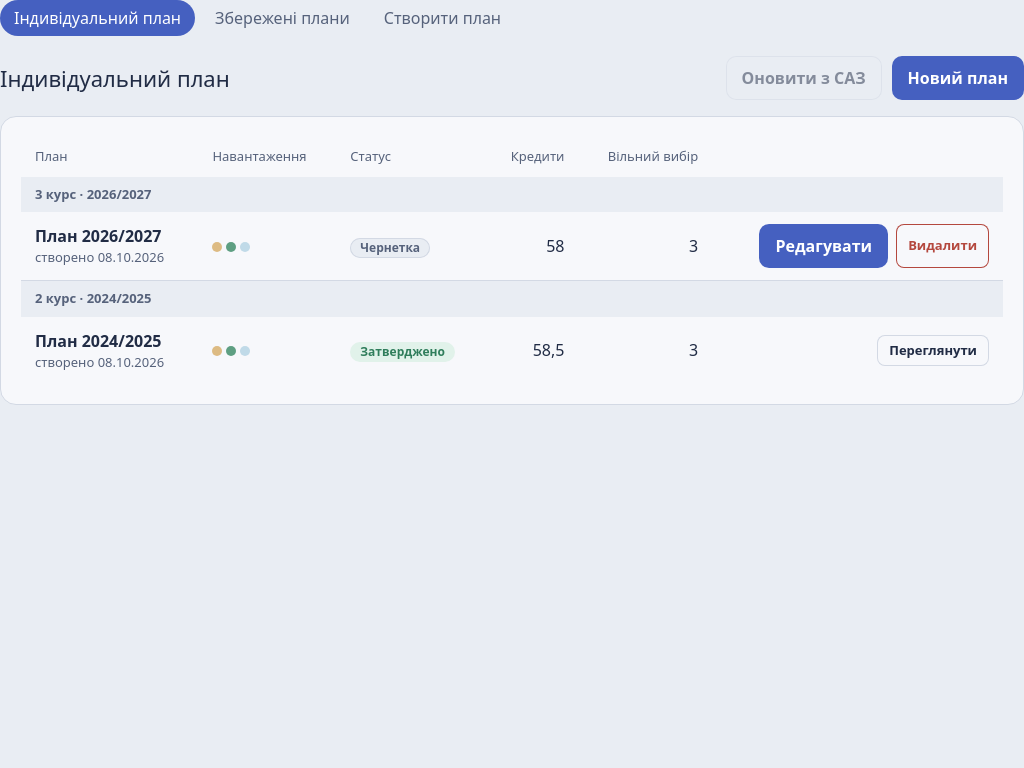
Test: PlansPage › підтверджене видалення прибирає рядок
Click the button "Видалити" at (943, 246), box [896,224,989,268]
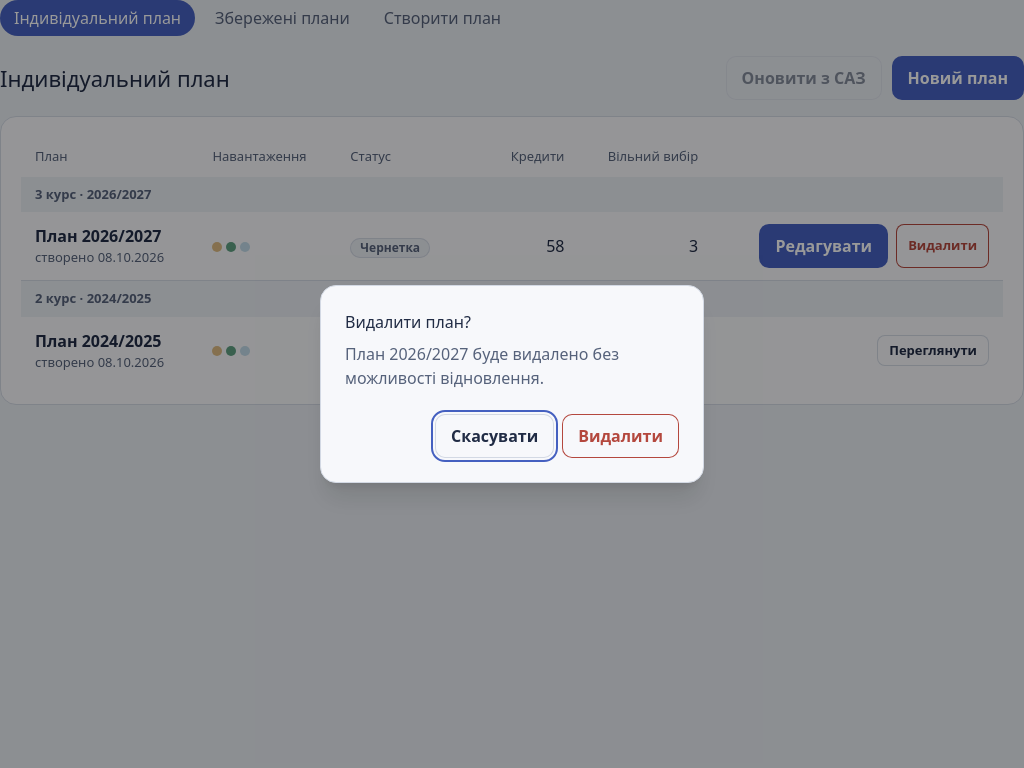
Click the button "Видалити" at (621, 436), box [562,414,679,458]
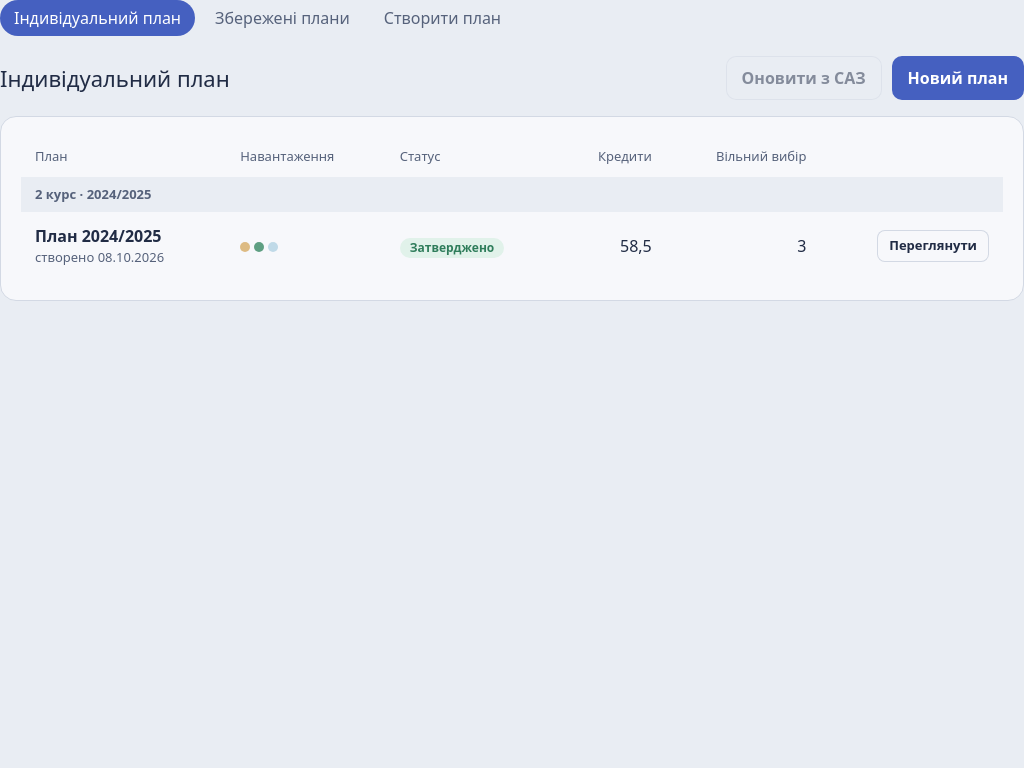
Expected: the row with test id "plan-2" is shown, [21,212,1003,280]
Expected: the row with test id "plan-1" is gone
